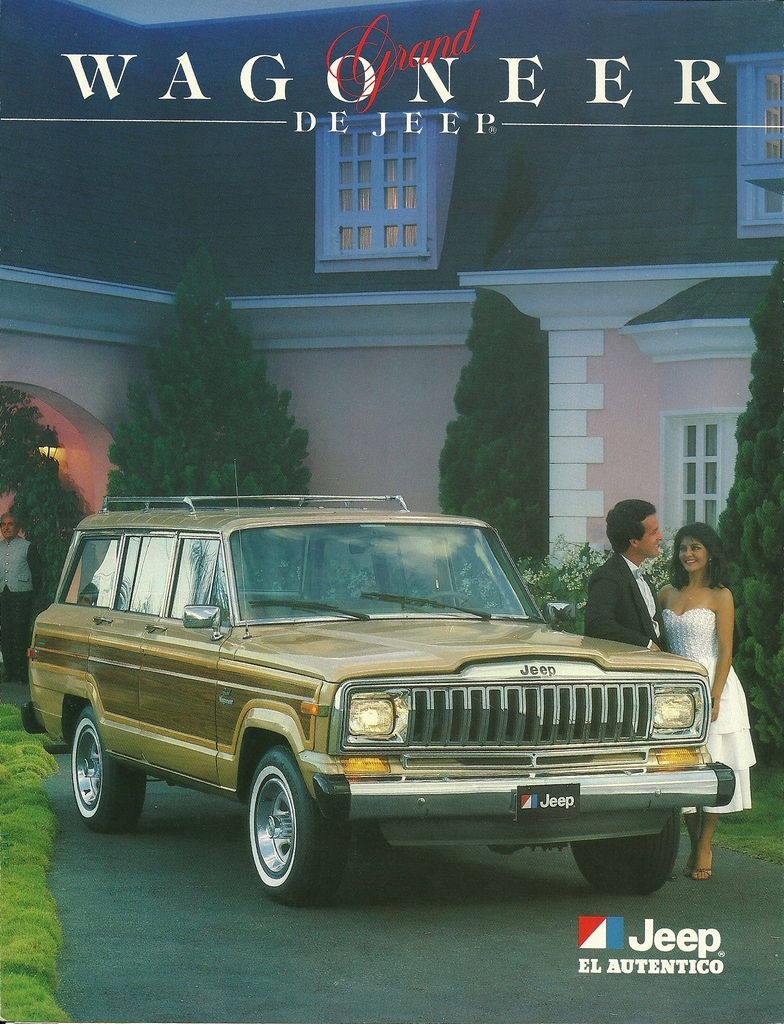Car: (17, 490, 746, 907)
